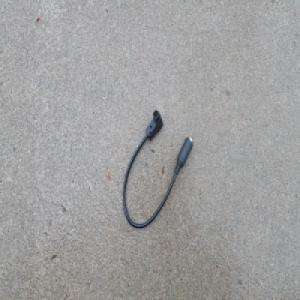Wire: (122, 108, 194, 230)
